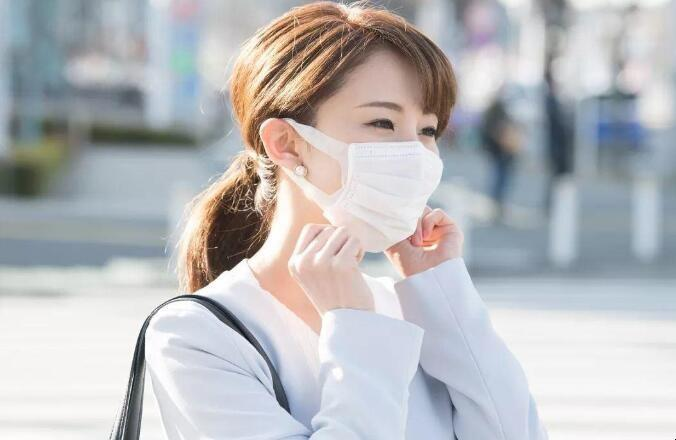mask: (302, 47, 449, 249)
